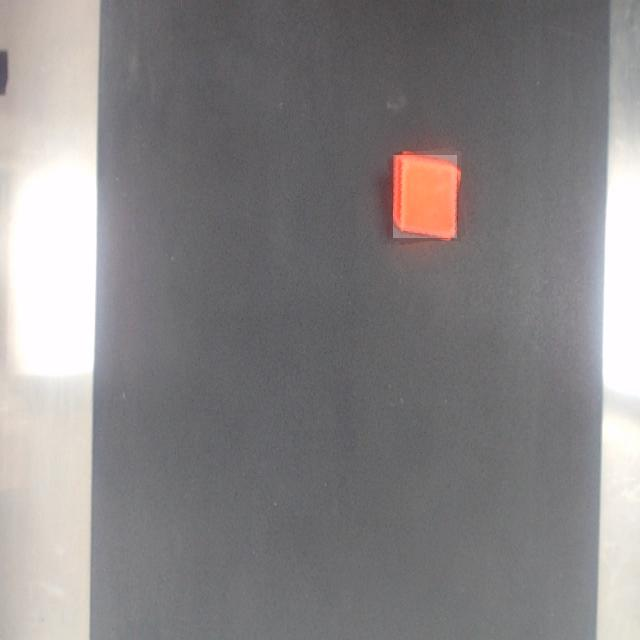Rojo: (393, 155, 457, 238)
